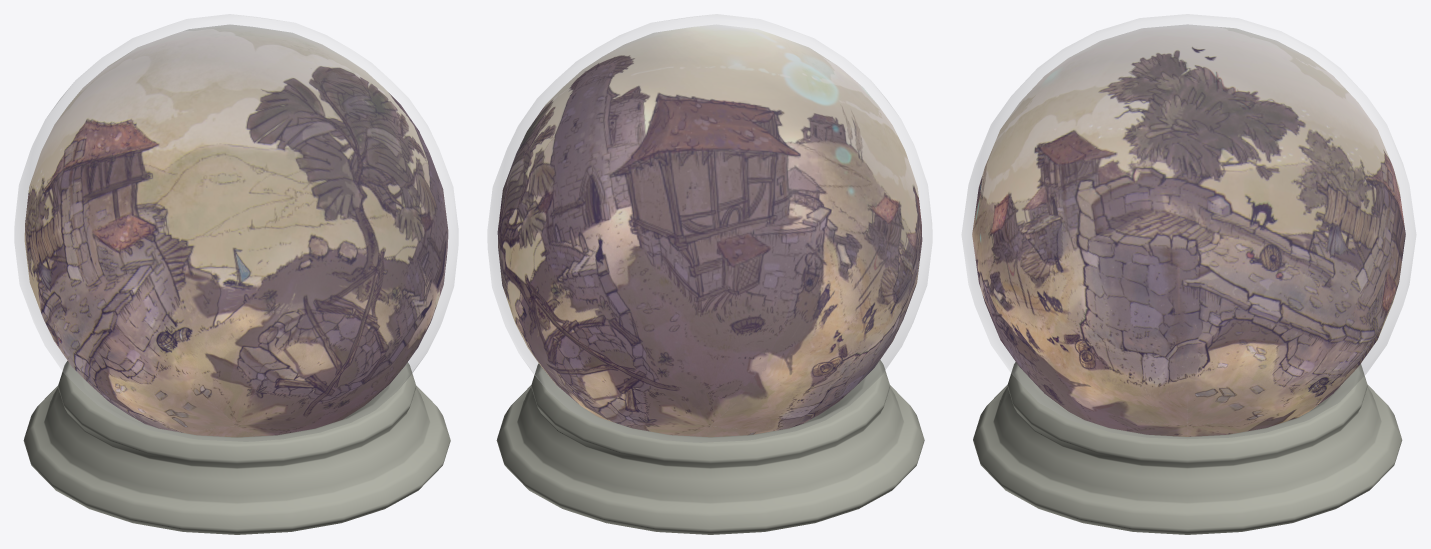
File: twa.glb
3 renders of one model, left to right at view 1: azimuth 30°, elevation 25°; view 2: azimuth 150°, elevation 25°; view 3: azimuth 270°, elevation 25°, orthographic.
Visible parts, largest first — view 1: 001_0, Cube, 002_0; view 2: 001_0, Cube, 002_0; view 3: 001_0, Cube, 002_0.
Boxes of the visible parts, bbox=[...] form: 001_0: bbox=[14, 14, 458, 441]; Cube: bbox=[24, 24, 448, 437]; 002_0: bbox=[23, 361, 450, 534]; 001_0: bbox=[487, 14, 932, 442]; Cube: bbox=[497, 24, 922, 437]; 002_0: bbox=[496, 360, 924, 534]; 001_0: bbox=[962, 14, 1415, 438]; Cube: bbox=[972, 24, 1405, 436]; 002_0: bbox=[973, 362, 1402, 534].
Size of the model in its own units: 2.7 by 2.78 by 2.78.
Materials: 3 (1 with a texture image).
